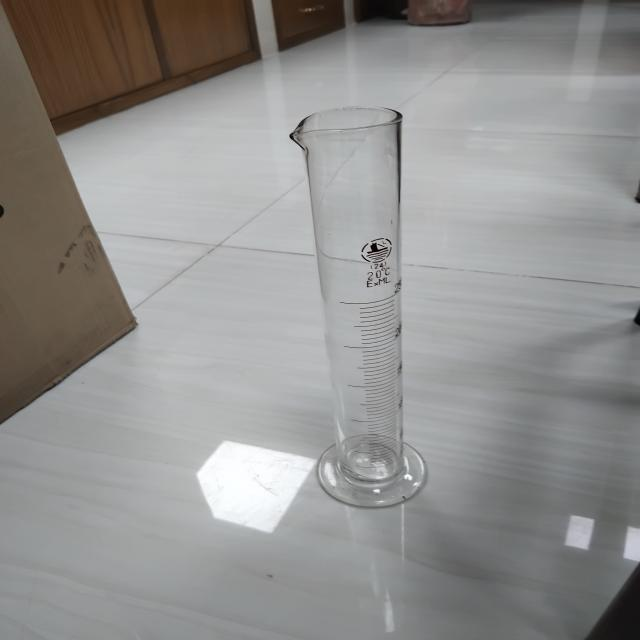Measuring_Cylinder: (246, 68, 495, 538)
